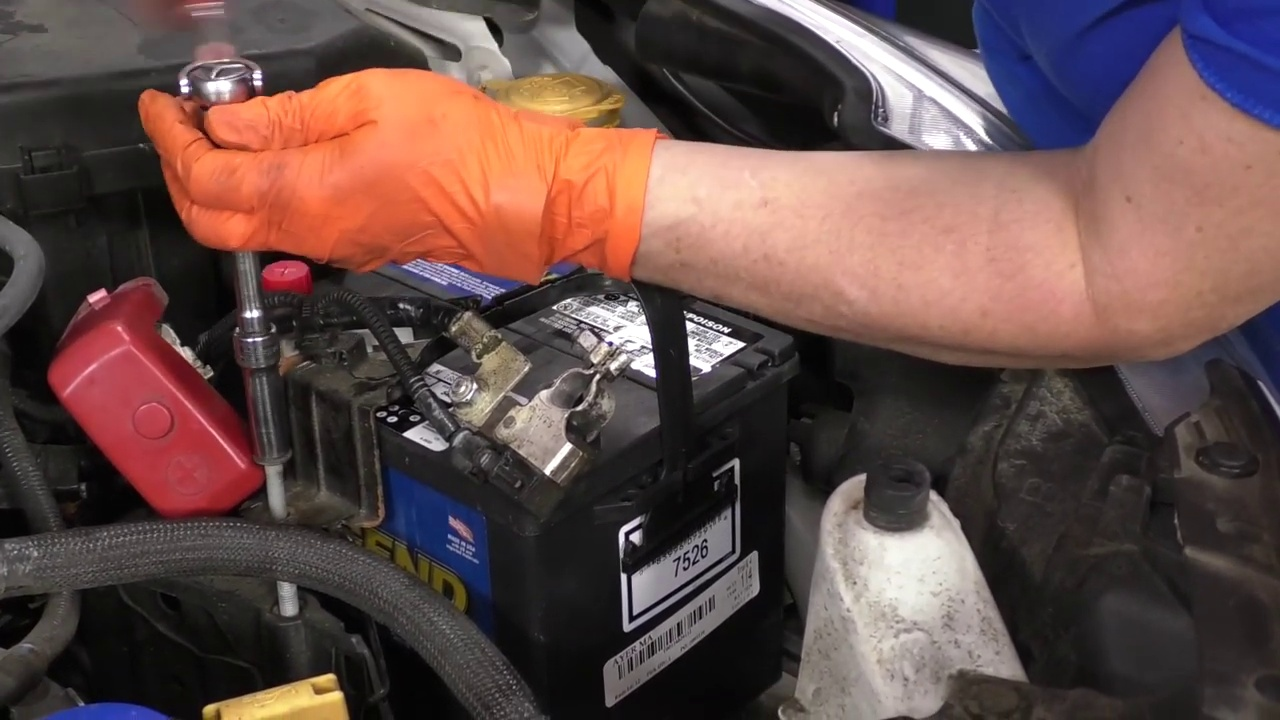battery: (230, 238, 786, 479)
